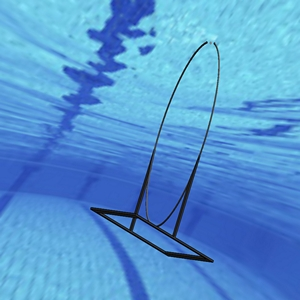circle: (89, 39, 222, 264)
